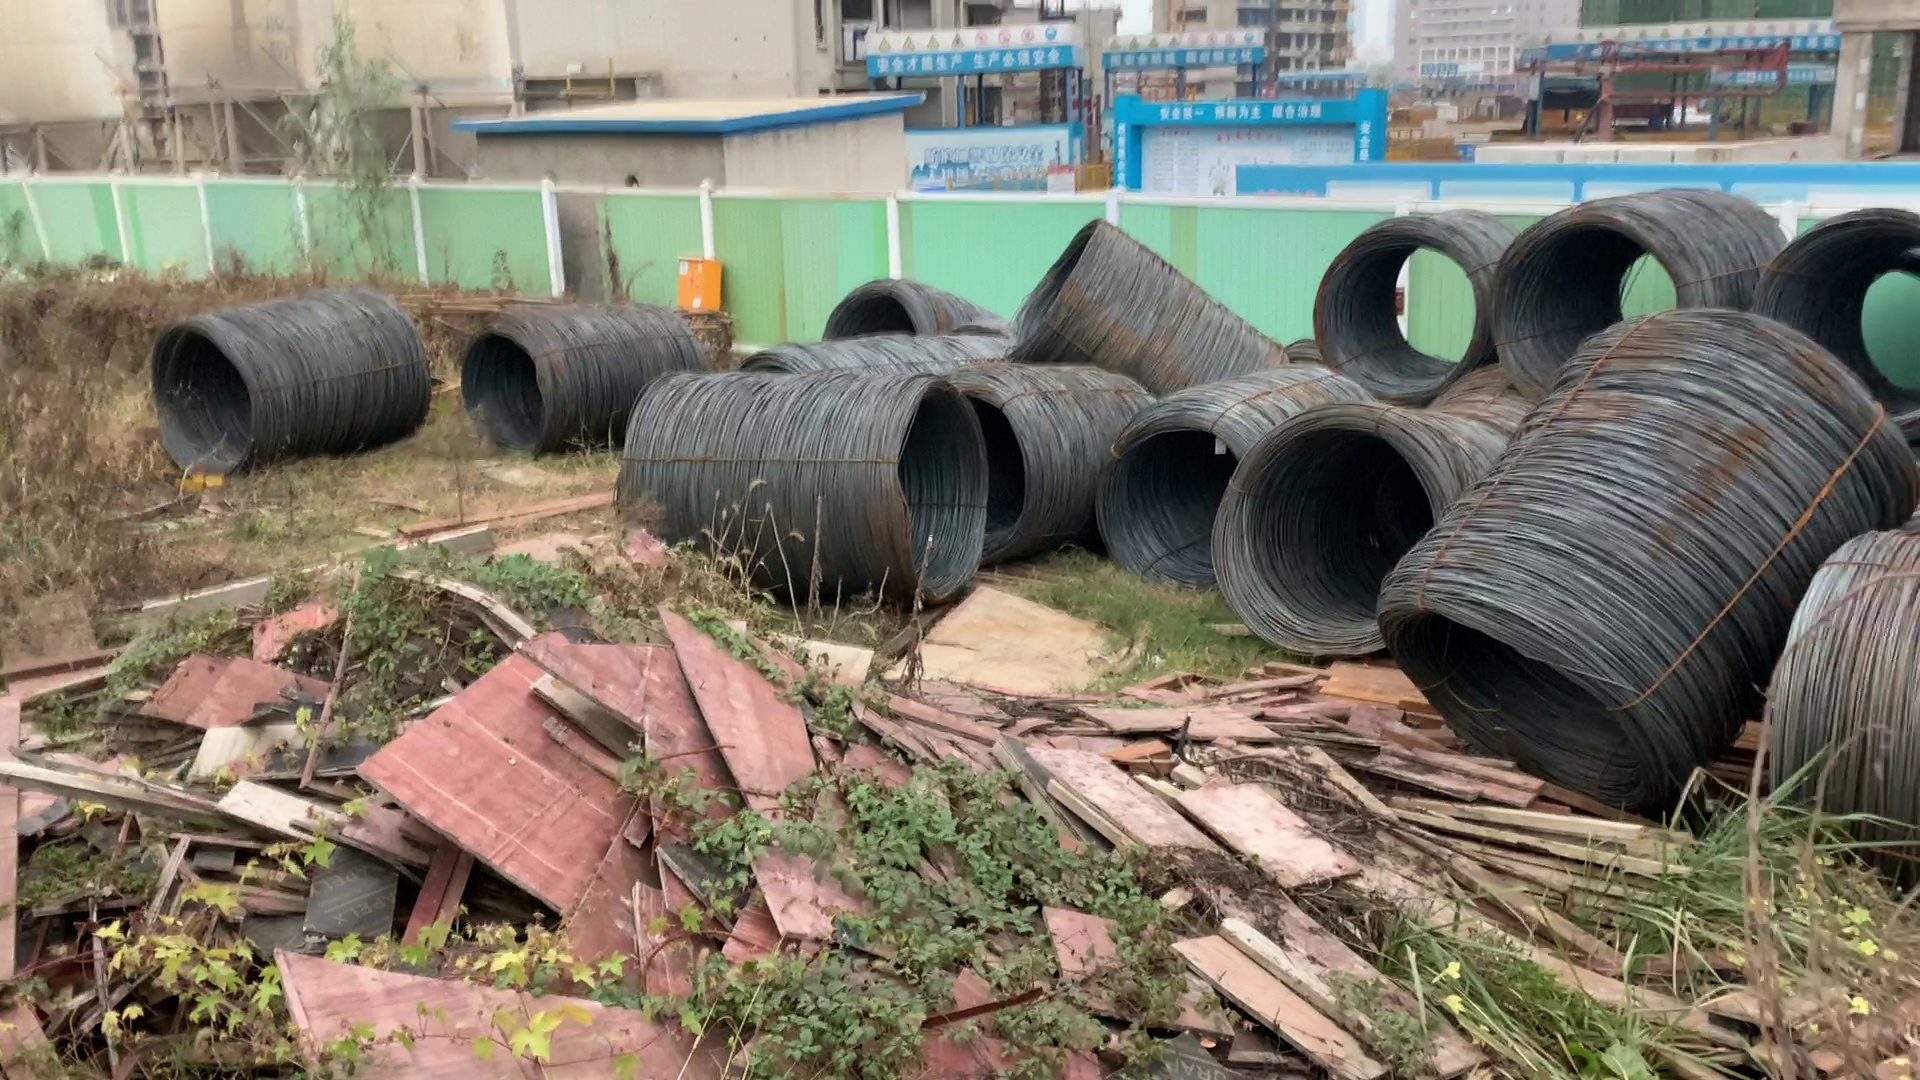coil: (1360, 599, 1688, 829), (1221, 413, 1447, 663), (1490, 216, 1696, 410), (1756, 210, 1920, 425), (1315, 224, 1493, 410), (1098, 413, 1238, 593), (935, 368, 1035, 579), (142, 316, 262, 491), (902, 382, 990, 596), (454, 327, 554, 463), (1004, 224, 1096, 349), (824, 287, 928, 349)
